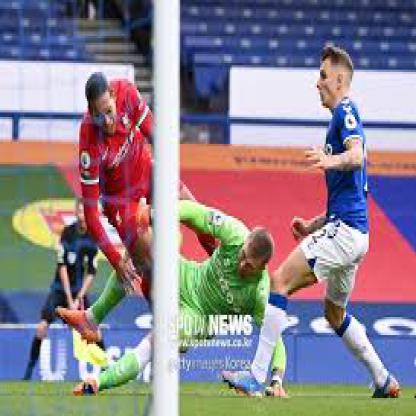Fall_Down: (57, 202, 287, 400)
